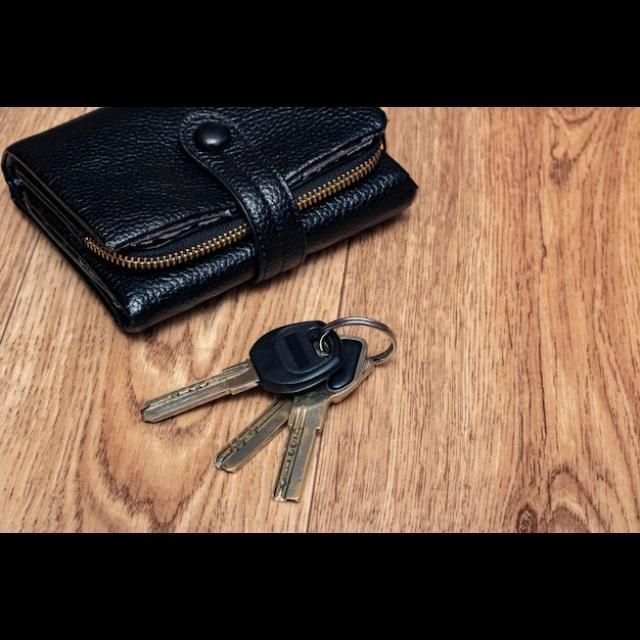wallet: (6, 110, 454, 302)
